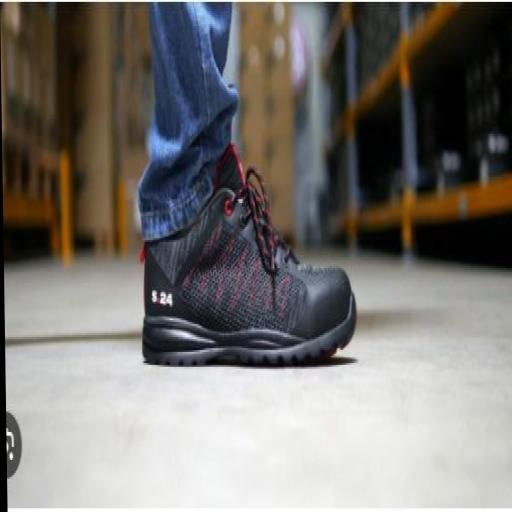safety_boots: (130, 209, 374, 382)
